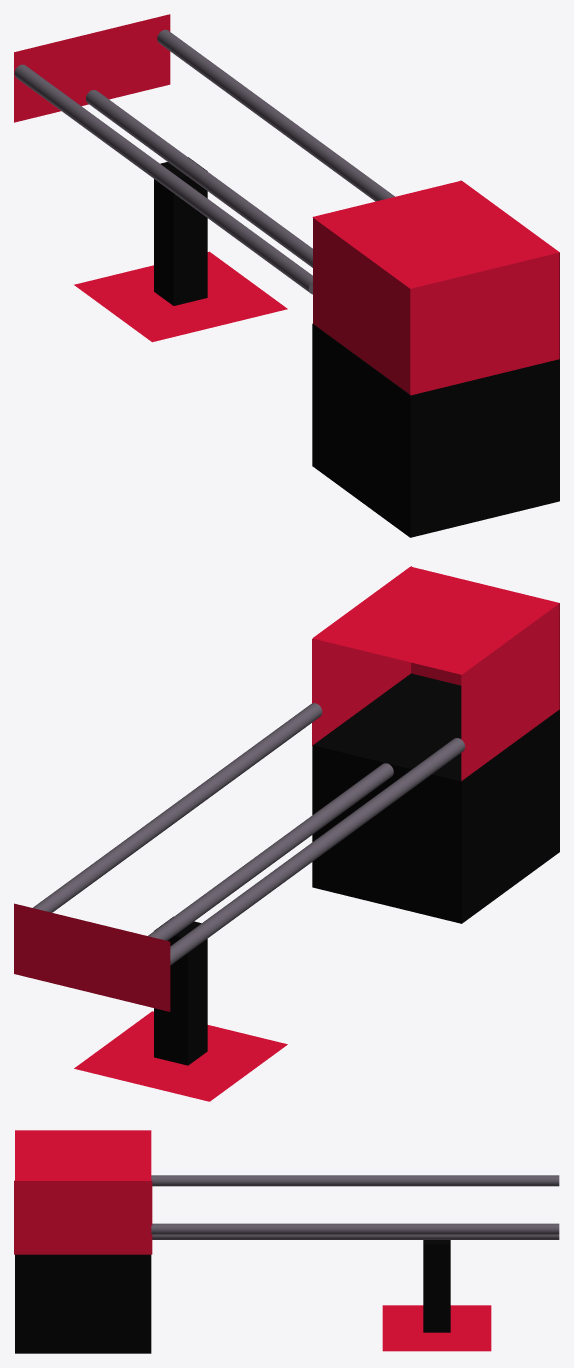
File: Ball Return.fbx
The picture shows the model from 3 angles, top to bottom: view 1: azimuth 30°, elevation 25°; view 2: azimuth 150°, elevation 25°; view 3: azimuth 270°, elevation 25°; orthographic projection. The views are drawn at different scales.
Visible parts, largest first — view 1: Base, Plane.005, Plane.004, Plane.003, Plane, Plane.001, Plane.010, Left Cylinder, Support, Right Cylinder, MIddle Cylinder, Plane.008 (+2 smaller); view 2: Base, Plane, Plane.004, Plane.001, Plane.009, Plane.010, Plane.006, Left Cylinder, Plane.002, Right Cylinder, Support, MIddle Cylinder (+2 smaller); view 3: Base, Plane.002, Plane.007, Right Cylinder, Left Cylinder, Plane.001, Plane.004, Plane.010, Support, MIddle Cylinder.
Boxes of the visible parts, x1,y1,x2,y2 form: Base: [312, 323, 559, 537]; Plane.005: [410, 252, 559, 394]; Plane.004: [317, 180, 559, 283]; Plane.003: [313, 219, 410, 394]; Plane: [14, 14, 170, 122]; Plane.001: [74, 251, 287, 342]; Plane.010: [312, 199, 512, 288]; Left Cylinder: [14, 64, 312, 294]; Support: [154, 157, 207, 305]; Right Cylinder: [157, 29, 394, 201]; MIddle Cylinder: [86, 90, 312, 267]; Plane.008: [410, 270, 559, 395]; Base: [312, 673, 559, 923]; Plane: [14, 904, 170, 1011]; Plane.004: [312, 566, 542, 658]; Plane.001: [74, 1011, 287, 1101]; Plane.009: [461, 614, 552, 780]; Plane.010: [369, 580, 559, 674]; Plane.006: [14, 903, 170, 1011]; Left Cylinder: [170, 738, 465, 965]; Plane.002: [312, 566, 411, 745]; Right Cylinder: [33, 703, 322, 912]; Support: [154, 916, 207, 1065]; MIddle Cylinder: [148, 763, 393, 940]; Base: [15, 1254, 151, 1353]; Plane.002: [14, 1180, 149, 1254]; Plane.007: [14, 1180, 152, 1254]; Right Cylinder: [151, 1223, 559, 1234]; Left Cylinder: [151, 1175, 559, 1186]; Plane.001: [382, 1305, 491, 1351]; Plane.004: [15, 1149, 151, 1180]; Plane.010: [15, 1130, 151, 1160]; Support: [423, 1240, 450, 1332]; MIddle Cylinder: [152, 1234, 559, 1239].
Bounding box in the file's own units: 230 × 350 × 1003.
